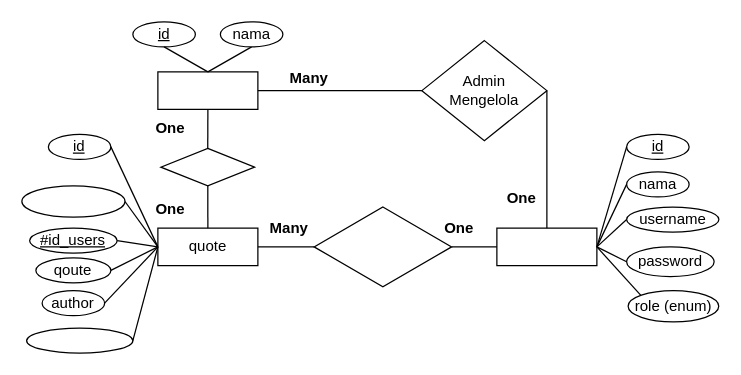
The diagram is 741 pixels wide and 375 high, and some of its shapes have lost their labels. Each missing label, with the box of its shape:
#kategori_id: (21, 185, 125, 217)
kategori: (157, 71, 258, 109)
Memiliki: (160, 147, 255, 186)
Penulis Mengelola: (313, 206, 452, 287)
status: (25, 327, 133, 353)
user: (496, 227, 597, 266)
